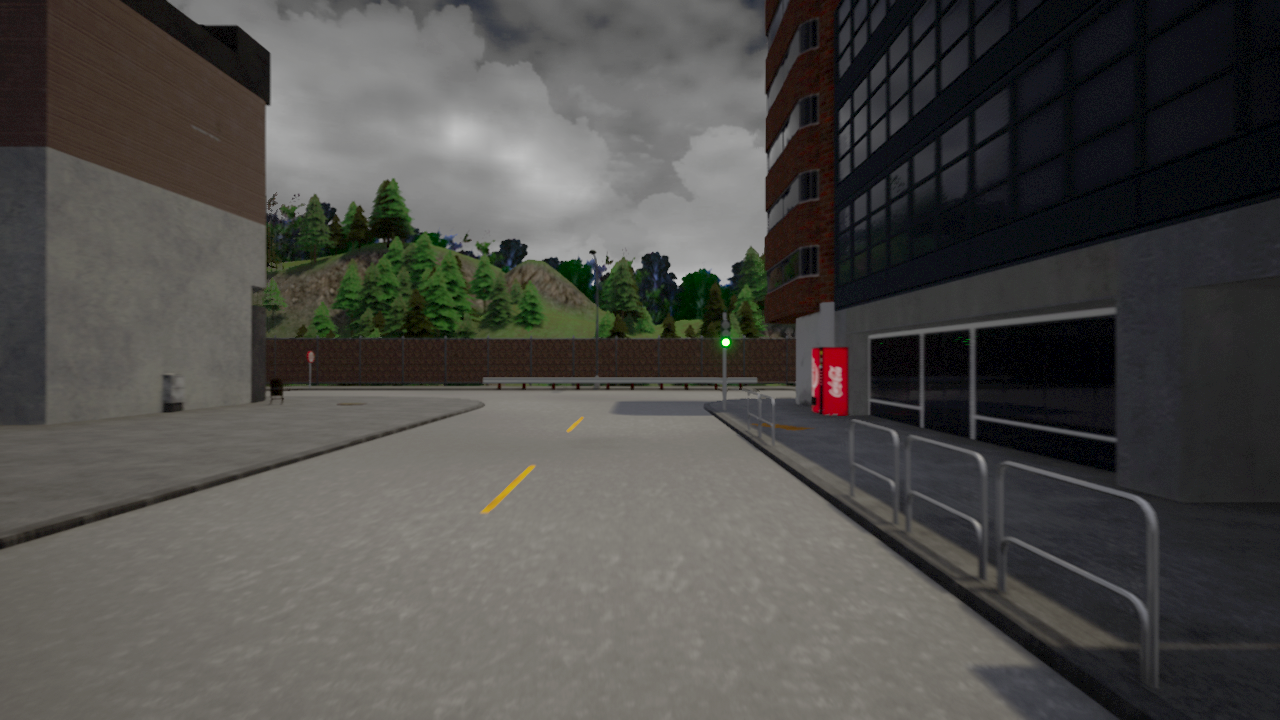green: (719, 319, 733, 349)
